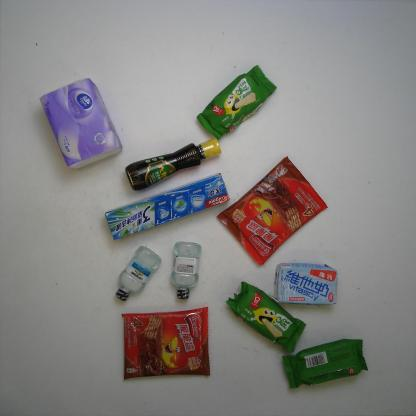Dessert: (216, 154, 329, 266), (116, 308, 211, 381), (198, 65, 278, 142), (224, 281, 306, 353), (282, 335, 367, 389)
Milk: (273, 261, 340, 309)
Personal Hygiene: (103, 174, 230, 241), (113, 244, 162, 304), (169, 239, 203, 301)
Seasoner: (126, 136, 222, 191)
Tissue: (38, 78, 122, 170)
